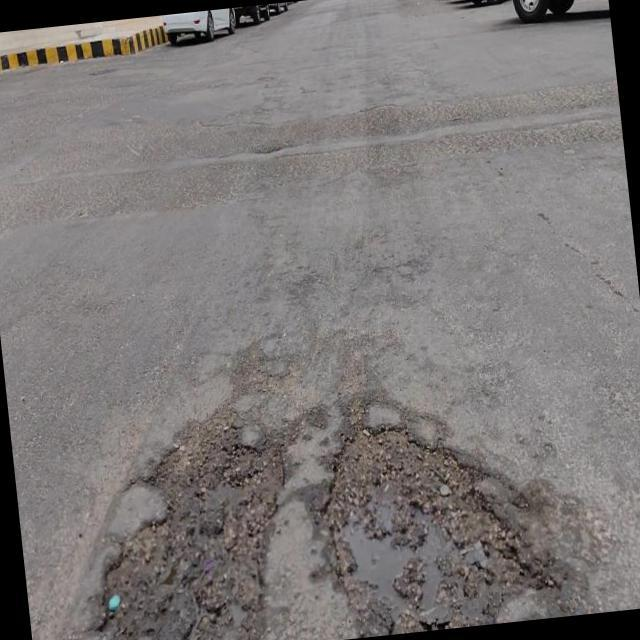Pothole: (318, 415, 562, 634), (101, 420, 286, 640)
